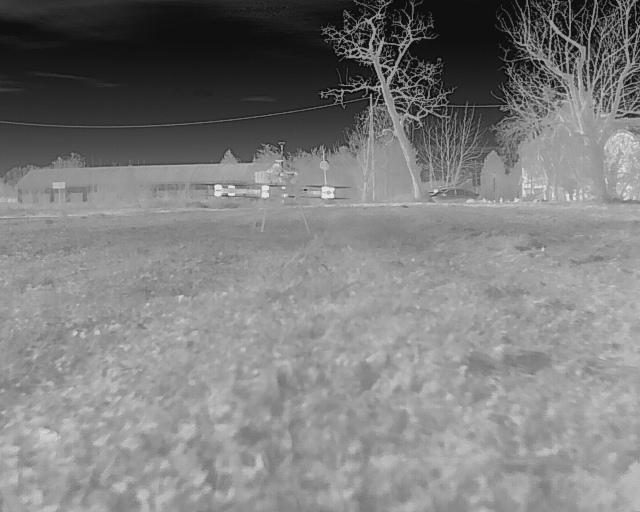drone: (199, 150, 354, 242)
